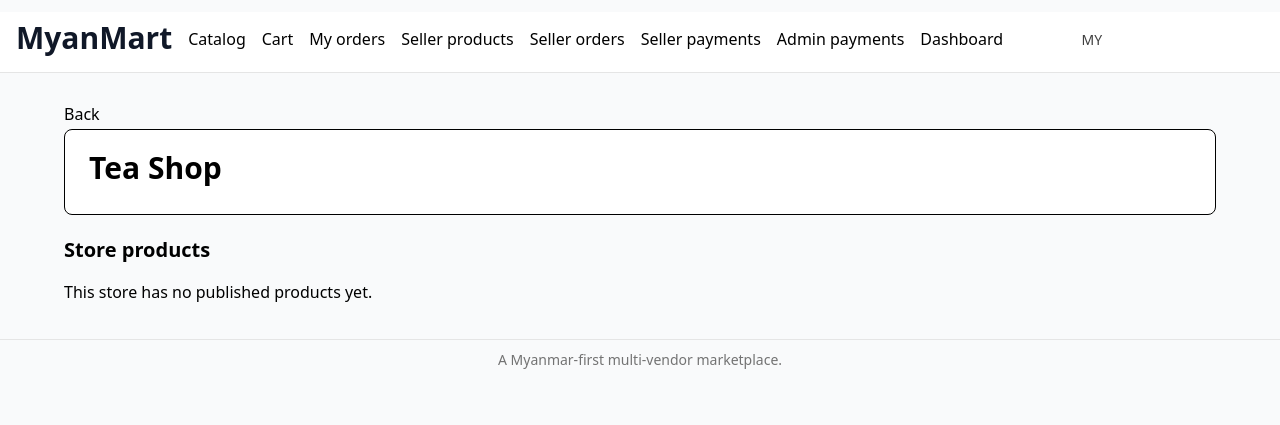
Test: storefront › shows an empty store without optional profile fields and switches language
Expected: the text "This store has no published products yet." is shown, [64, 277, 372, 312]
What coordinates should you click on to do the following:
click the button "MY"
I would click on:
 (1092, 42)
Its box is [1070, 28, 1114, 56].
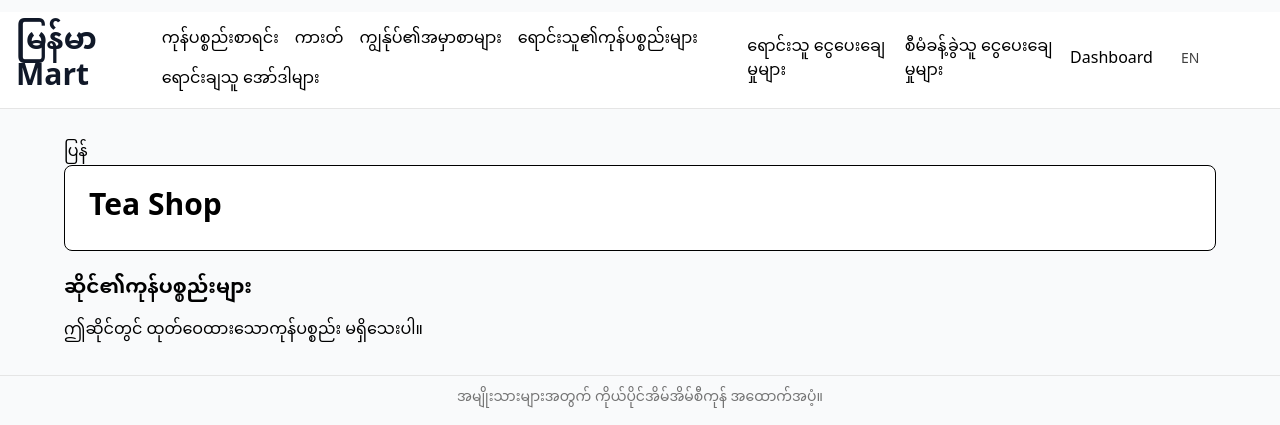
Expected: the text "ဤဆိုင်တွင် ထုတ်ဝေထားသောကုန်ပစ္စည်း မရှိသေးပါ။" is shown, [64, 313, 423, 348]
